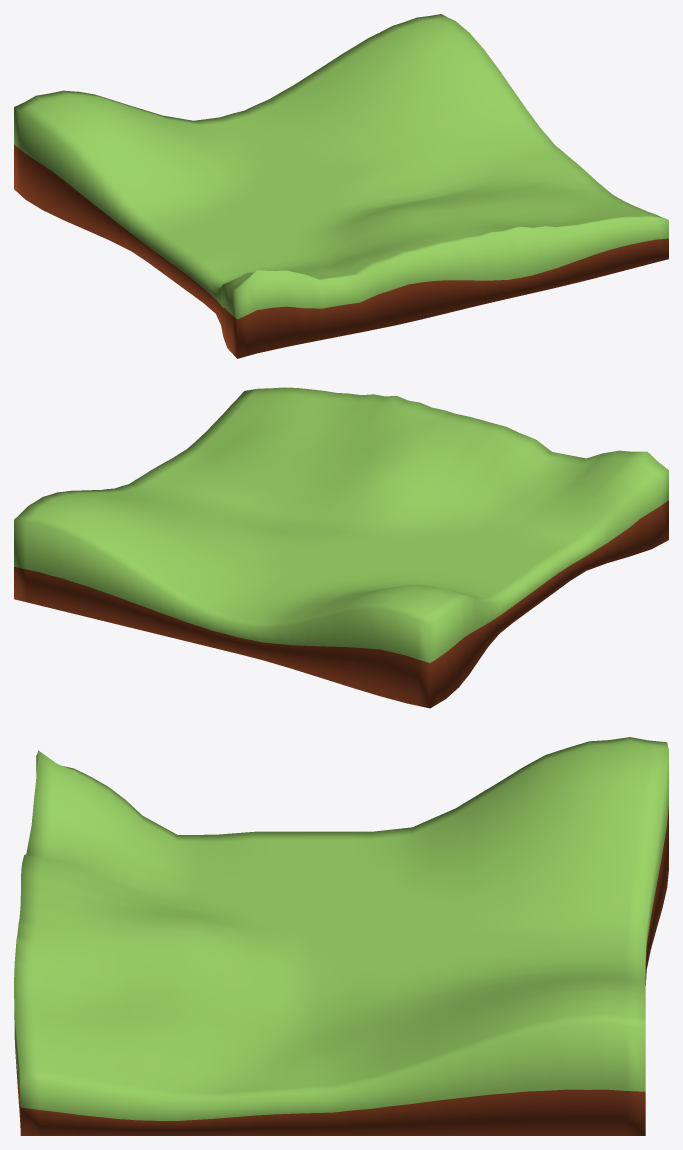
Rendered from terrain.glb.
3 renders of one model, top to bottom at view 1: azimuth 30°, elevation 25°; view 2: azimuth 150°, elevation 25°; view 3: azimuth 270°, elevation 25°, orthographic. The views are drawn at different scales.
Visible parts, largest first — view 1: Terrain; view 2: Terrain; view 3: Terrain.
Part boxes in pixels (x1,y1,x2,y2): Terrain: [14, 14, 668, 358]; Terrain: [14, 387, 668, 708]; Terrain: [14, 737, 668, 1135].
Bounding box in the file's own units: 43.23 × 8.77 × 41.93.
